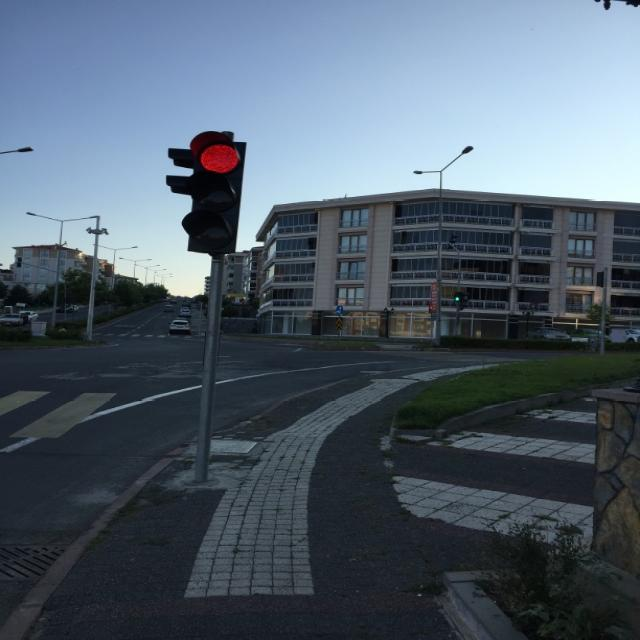kirmizi: (188, 131, 246, 256)
